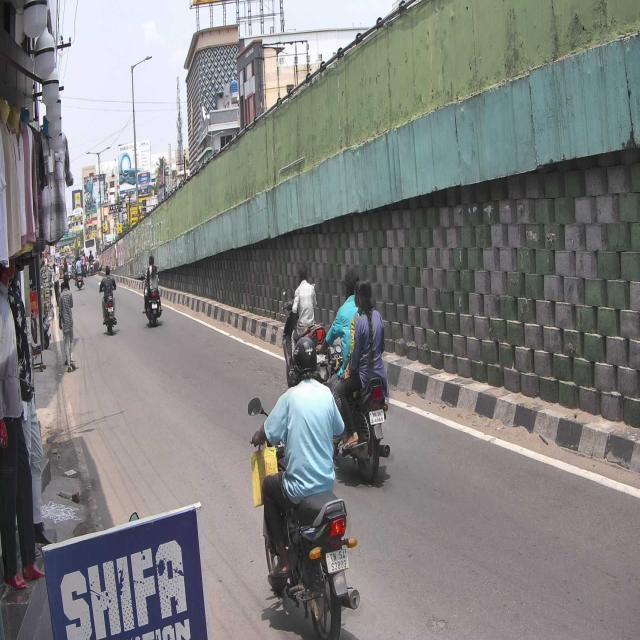single_rider: (253, 336, 326, 620)
triple_rider: (328, 262, 393, 480)
